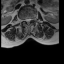CCS_normal: (27, 16, 29, 27)
LFS_normal: (31, 16, 33, 23)
LLS_normal: (29, 16, 31, 23)
RFS_normal: (23, 17, 25, 23)
RLS_normal: (25, 17, 27, 23)
